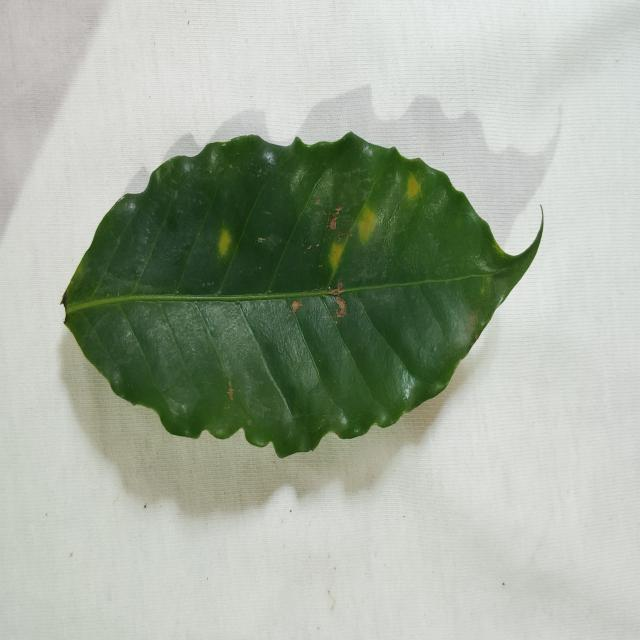Enfermedad-Roya: (61, 133, 540, 461)
